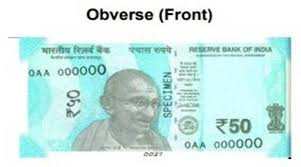fifty: (26, 56, 275, 139)
